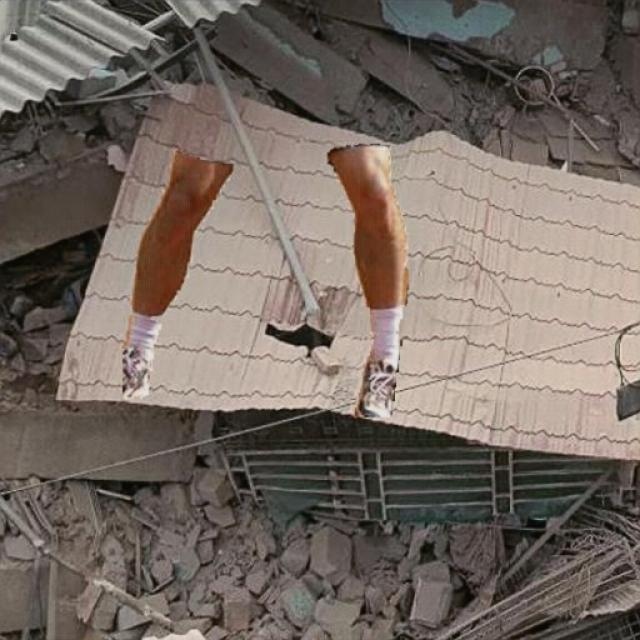Person in Rubble: (122, 144, 408, 416)
